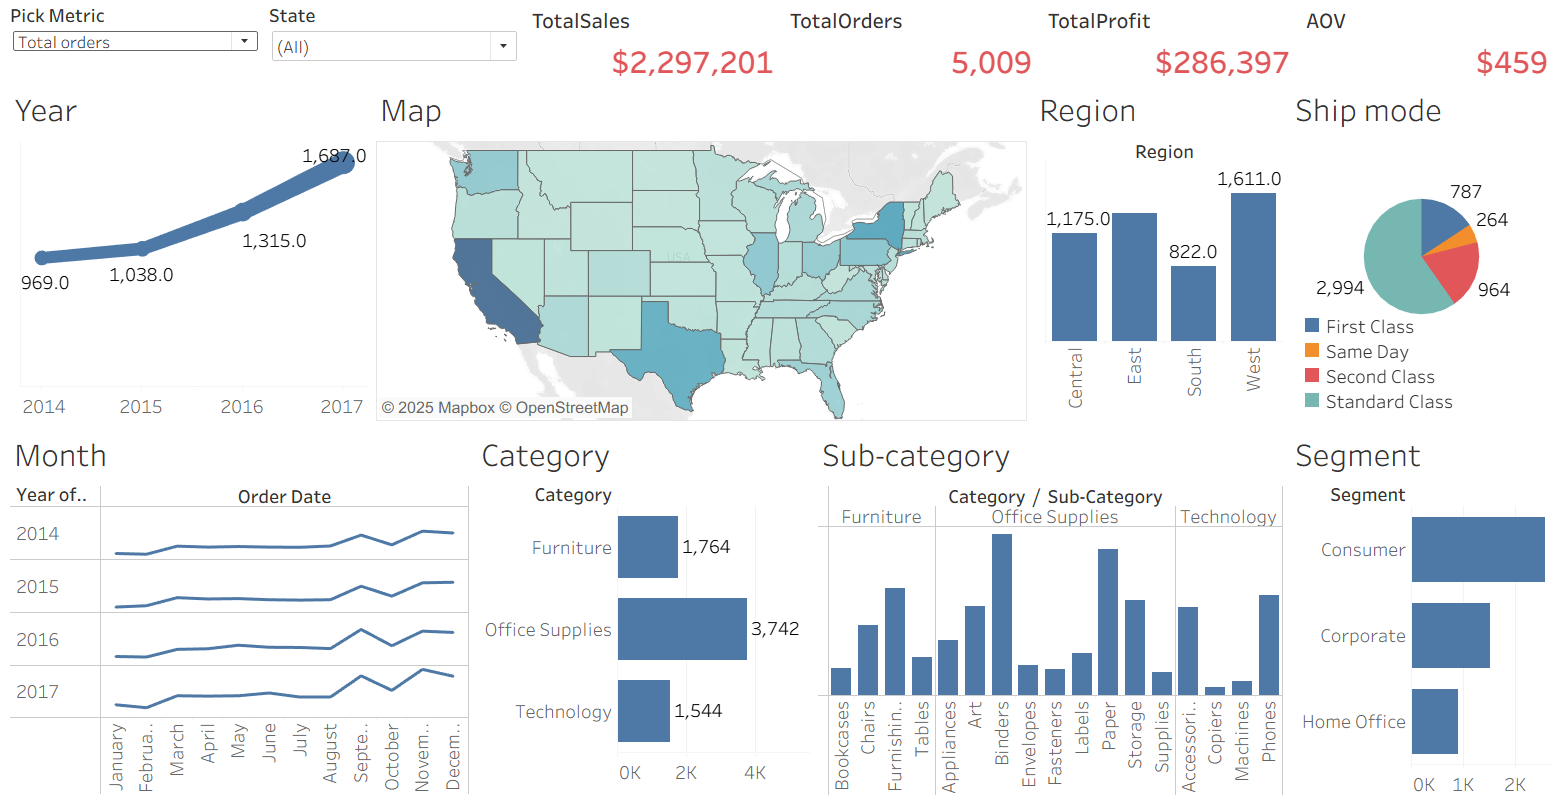

Layout of this report page (visuals, bound fields, positions):
{"tool":"tableau","page":{"name":"Overview","canvas":[1566,868],"ordinal":1},"visuals":[{"type":"text","box":[8,8,1550,50]},{"type":"parameter","param":"[Parameters].[Parameter 5]","box":[8,58,259,82]},{"type":"filter","title":"Map","param":"[federated.1he7qs112cn0321eepdp601evxoy].[none:State:nk]","box":[267,58,259,82]},{"type":"worksheet","title":"TotalSales","mark":"Automatic","box":[526,58,258,82]},{"type":"worksheet","title":"TotalOrders","mark":"Automatic","box":[784,58,258,82]},{"type":"worksheet","title":"TotalProfit","mark":"Automatic","box":[1042,58,258,82]},{"type":"worksheet","title":"AOV","mark":"Automatic","box":[1300,58,258,82]},{"type":"worksheet","title":"Year","mark":"Line","rows":["Calculation_1279022342674292740"],"cols":["Order Date"],"box":[8,140,366.1,345]},{"type":"worksheet","title":"Map","mark":"Multipolygon","box":[374.1,140,658.7,345]},{"type":"worksheet","title":"Region","mark":"Automatic","rows":["Calculation_1279022342674292740"],"cols":["Region"],"box":[1032.8,140,256.2,345]},{"type":"worksheet","title":"Ship mode","mark":"Pie","box":[1289,140,269,296]},{"type":"legend","title":"Ship mode","param":"[federated.1he7qs112cn0321eepdp601evxoy].[none:Ship Mode:nk]","box":[1302,373,158,126]},{"type":"worksheet","title":"Month","mark":"Line","rows":["Order Date","Calculation_1279022342674292740"],"cols":["Order Date"],"box":[8,485,467,375]},{"type":"worksheet","title":"Category","mark":"Automatic","rows":["Category"],"cols":["Calculation_1279022342674292740"],"box":[475,485,341,375]},{"type":"worksheet","title":"Sub-cat","mark":"Automatic","rows":["Calculation_1279022342674292740"],"cols":["Category","Sub-Category"],"box":[816,485,473,375]},{"type":"worksheet","title":"Segment","mark":"Automatic","rows":["Segment"],"cols":["Calculation_1279022342674292740"],"box":[1289,485,269,375]}]}

Visuals, with their boxes on the page's 1566x868 design canvas (x1, y1, x2, y2). These are canvas units, not pixel positions in the 1558x802 screenshot, which may show the page scaled, cropped or inside an application window:
text: (x1=8, y1=8, x2=1558, y2=58)
parameter: (x1=8, y1=58, x2=267, y2=140)
"Map" filter: (x1=267, y1=58, x2=526, y2=140)
"TotalSales" worksheet: (x1=526, y1=58, x2=784, y2=140)
"TotalOrders" worksheet: (x1=784, y1=58, x2=1042, y2=140)
"TotalProfit" worksheet: (x1=1042, y1=58, x2=1300, y2=140)
"AOV" worksheet: (x1=1300, y1=58, x2=1558, y2=140)
"Year" worksheet (Line marks): (x1=8, y1=140, x2=374, y2=485)
"Map" worksheet (Multipolygon marks): (x1=374, y1=140, x2=1033, y2=485)
"Region" worksheet: (x1=1033, y1=140, x2=1289, y2=485)
"Ship mode" worksheet (Pie marks): (x1=1289, y1=140, x2=1558, y2=436)
"Ship mode" legend: (x1=1302, y1=373, x2=1460, y2=499)
"Month" worksheet (Line marks): (x1=8, y1=485, x2=475, y2=860)
"Category" worksheet: (x1=475, y1=485, x2=816, y2=860)
"Sub-cat" worksheet: (x1=816, y1=485, x2=1289, y2=860)
"Segment" worksheet: (x1=1289, y1=485, x2=1558, y2=860)
